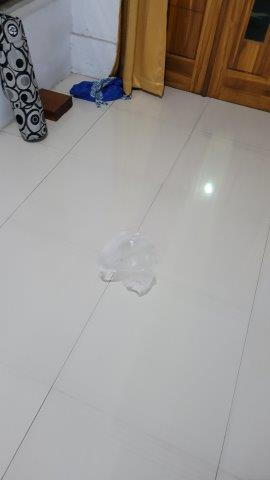plastik: (100, 229, 158, 295)
